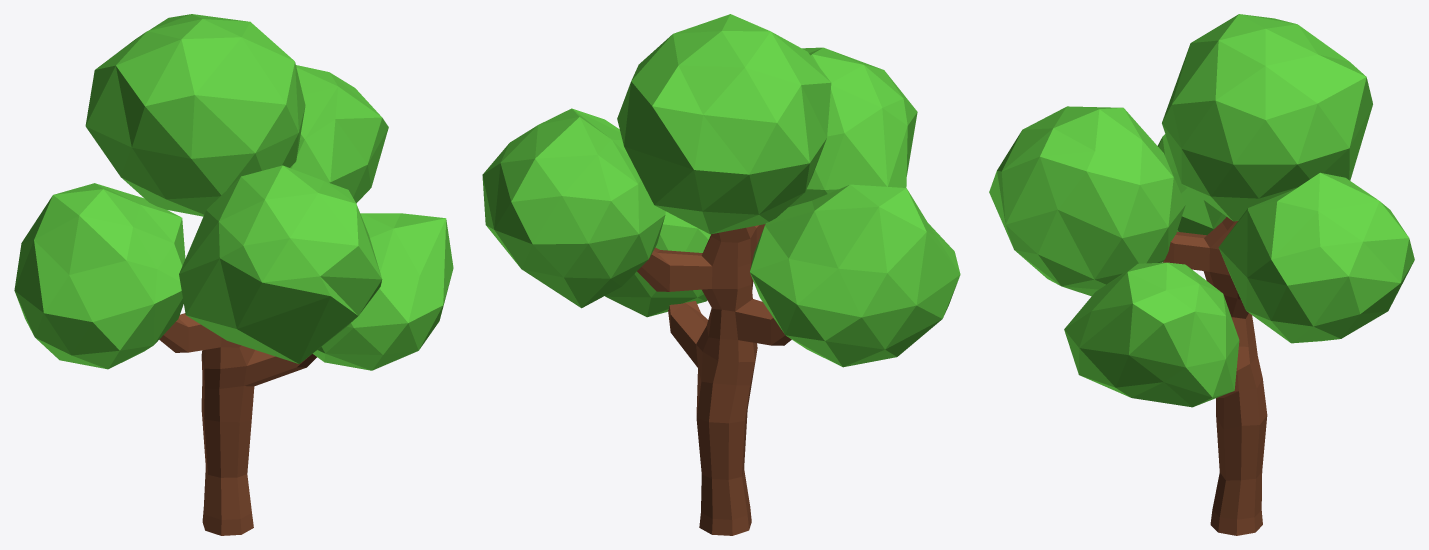
File: bushtree.fbx
3 views of the same model, side by side, from view 1: azimuth 30°, elevation 25°; view 2: azimuth 150°, elevation 25°; view 3: azimuth 270°, elevation 25° (orthographic). The views are drawn at different scales.
Parts seen in each view (by area): view 1: Cylinder.003; view 2: Cylinder.003; view 3: Cylinder.003.
Boxes of the visible parts, bbox=[...] form: Cylinder.003: bbox=[14, 14, 453, 535]; Cylinder.003: bbox=[482, 14, 960, 535]; Cylinder.003: bbox=[989, 14, 1414, 535].
Bounding box in the file's own units: 3.21 × 3.88 × 3.05.
